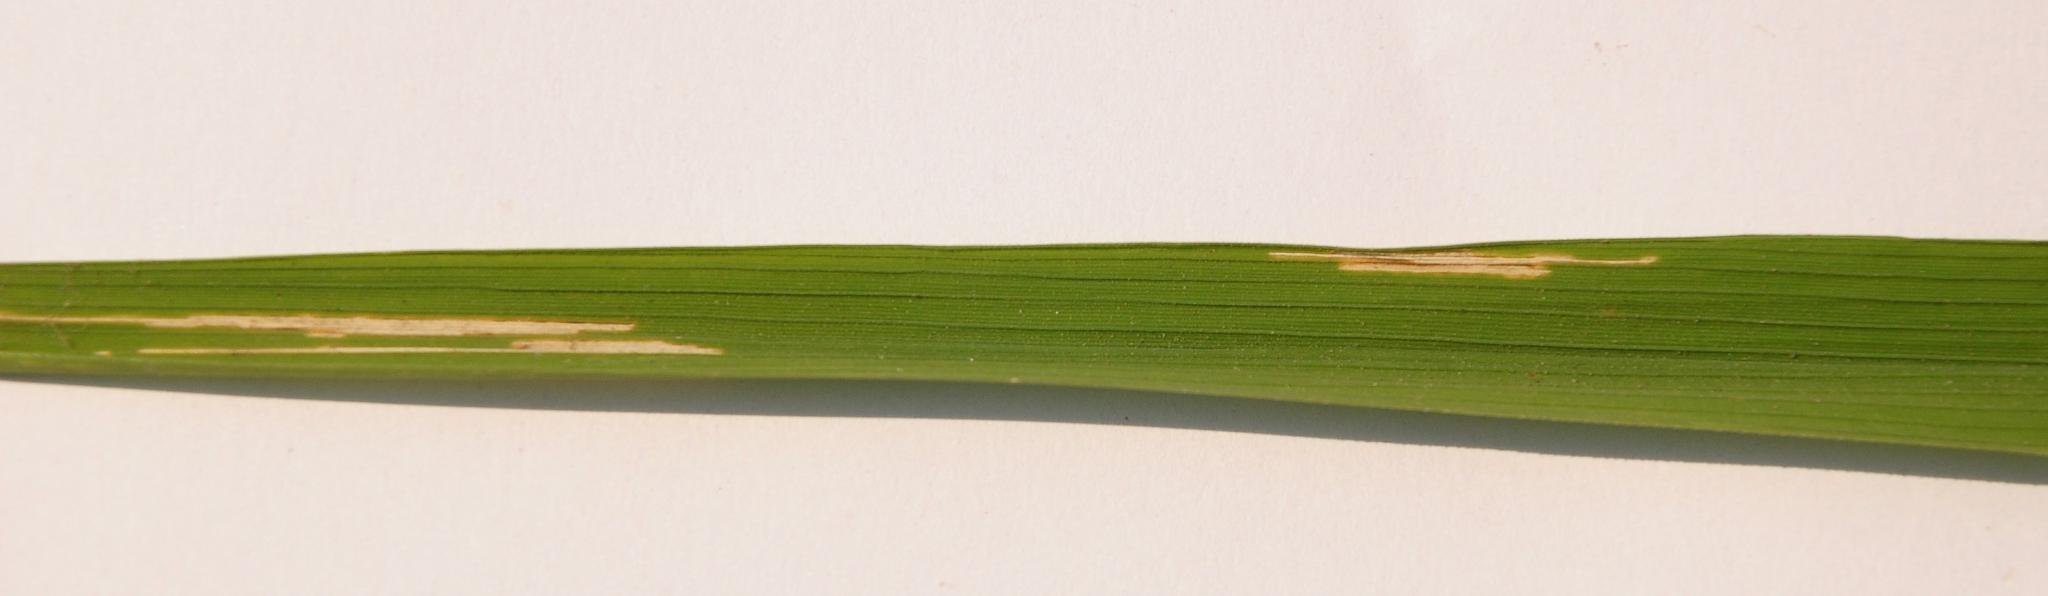2 BacterialBlight: (11, 235, 778, 429), (1223, 198, 1709, 304)
